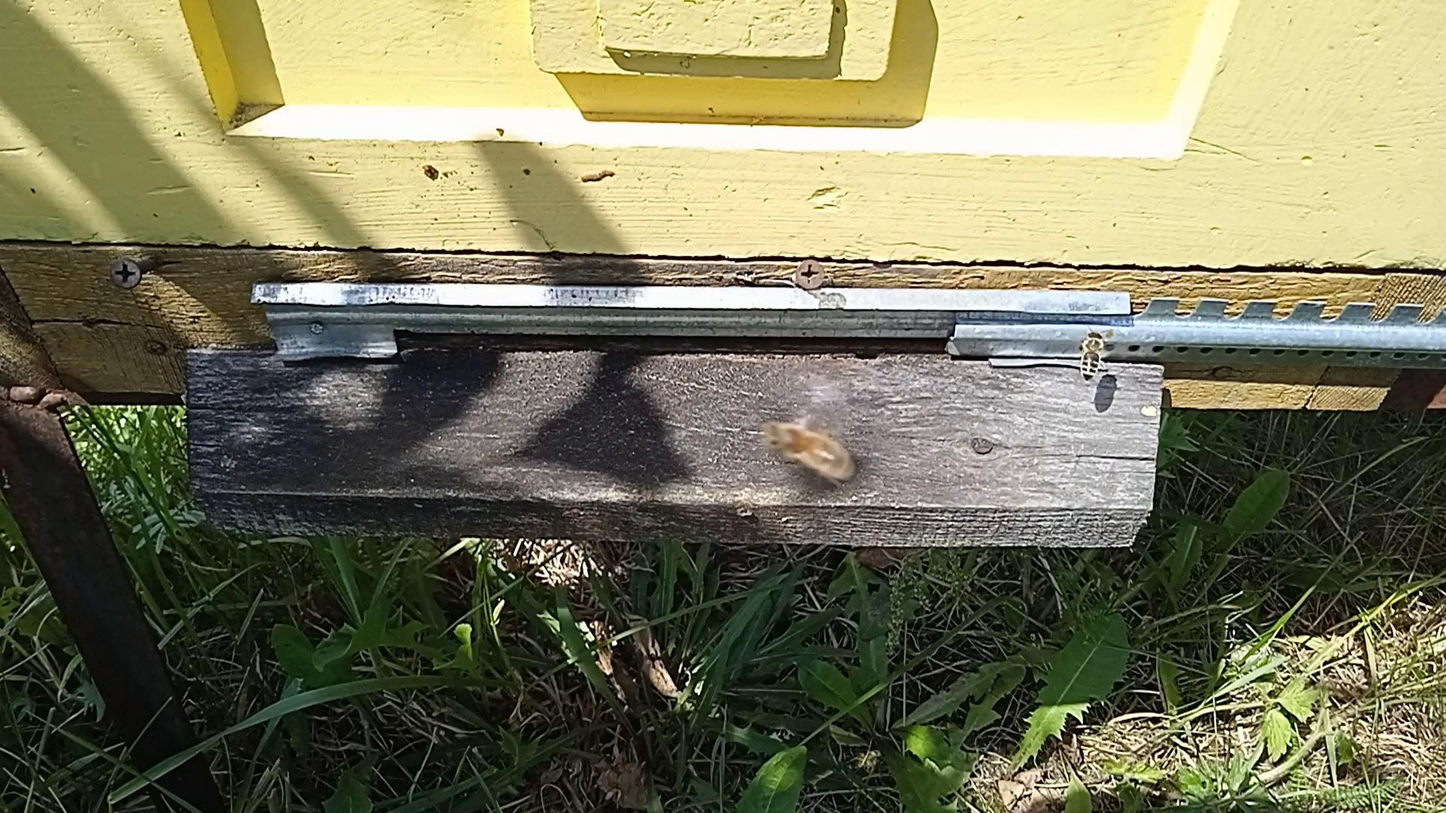worker-bee: (759, 419, 857, 484), (1078, 330, 1107, 381)
